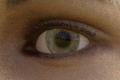eye: (46, 29, 79, 53)
